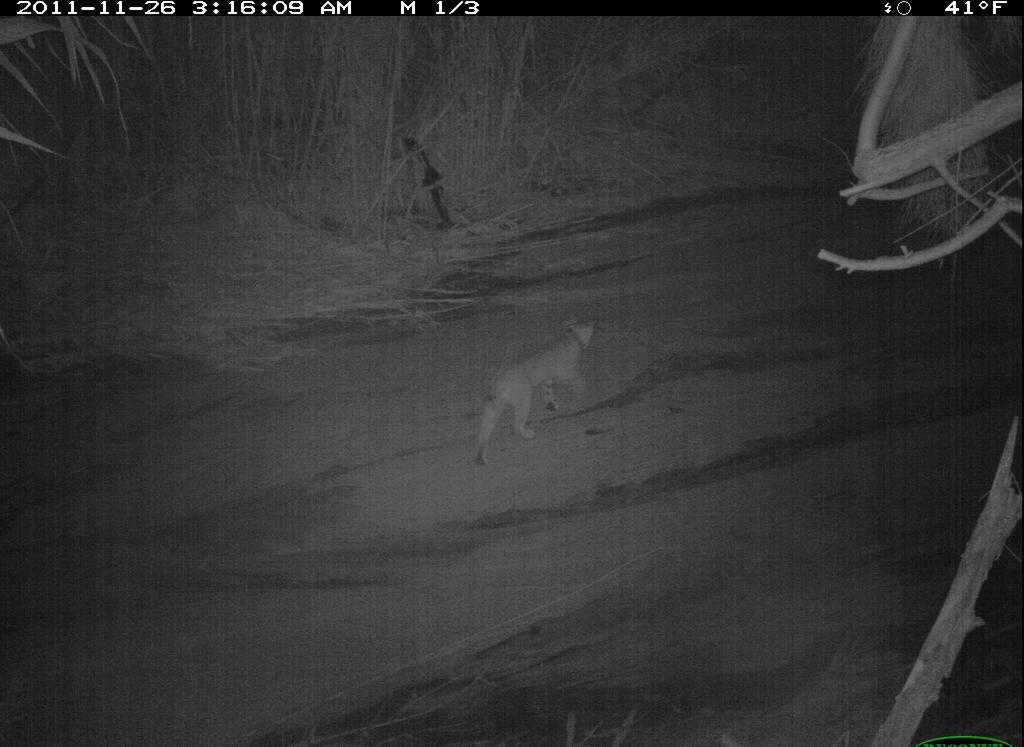bobcat: (468, 314, 602, 469)
